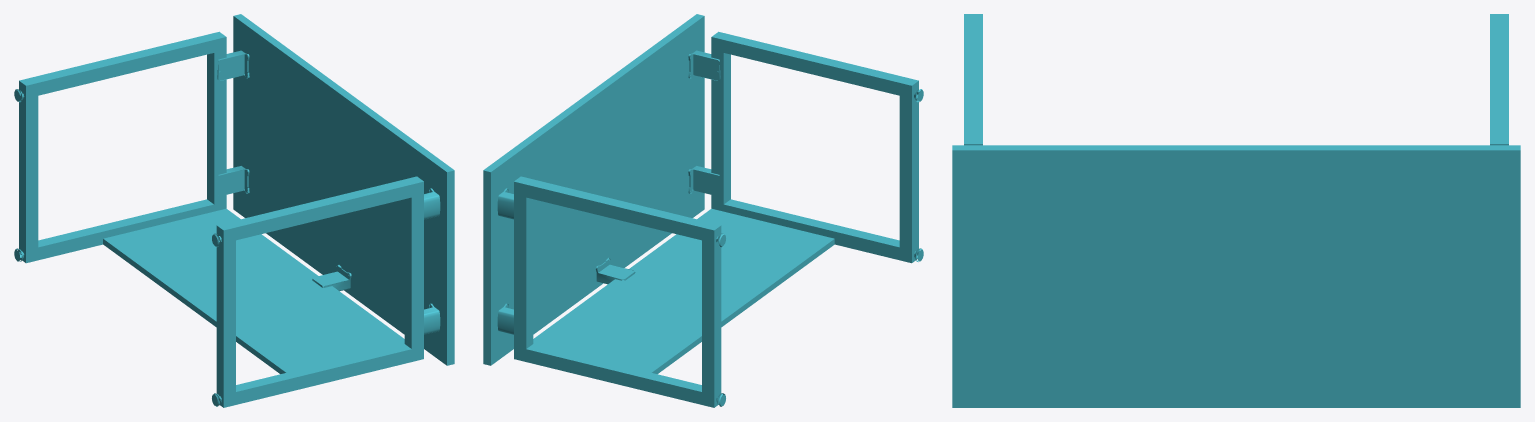
The picture shows the model from 3 angles, left to right: view 1: azimuth 30°, elevation 25°; view 2: azimuth 150°, elevation 25°; view 3: azimuth 270°, elevation 25°; orthographic projection. The views are drawn at different scales.
Parts seen in each view (by area): view 1: Renderer Node; view 2: Renderer Node; view 3: Renderer Node.
Part boxes in pixels (x1,y1,x2,y2): Renderer Node: (14,14,454,407); Renderer Node: (483,14,923,407); Renderer Node: (952,14,1520,407).
Size of the model in its own units: 0.489 by 0.3901 by 0.7802.
Materials: 1 (1 with a texture image).
